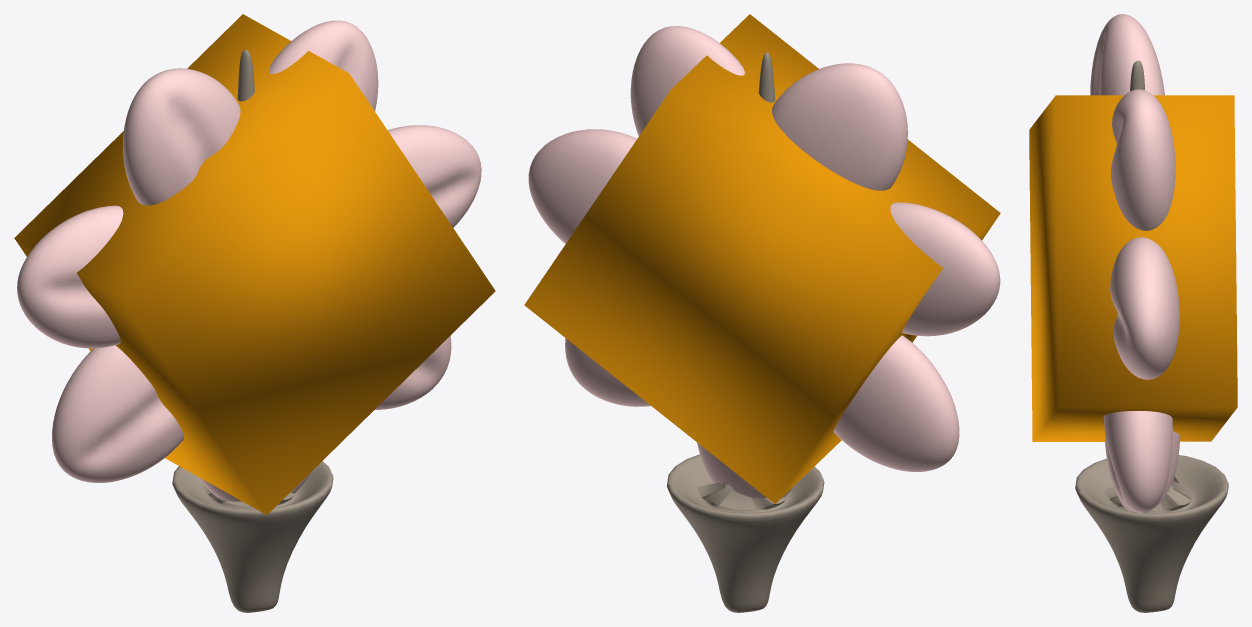
File: sunflower.glb
The picture shows the model from 3 angles, left to right: view 1: azimuth 30°, elevation 25°; view 2: azimuth 150°, elevation 25°; view 3: azimuth 270°, elevation 25°; orthographic projection. The views are drawn at different scales.
Parts seen in each view (by area): view 1: Cube, Cube.003, 10868_birthday-cake_v3.013, Cube.001, Cube.002, Cube.006, Cube.007, Cube.005; view 2: Cube, 10868_birthday-cake_v3.013, Cube.001, Cube.003, Cube.002, Cube.006, Cube.007, Cube.005, Cube.004; view 3: Cube, 10868_birthday-cake_v3.013, Cube.006, Cube.007, Cube.005, Cube.001, Cube.004.
Part boxes in pixels (left/top/right/bottom): Cube: left=14, top=14, right=495, bottom=514; Cube.003: left=52, top=345, right=183, bottom=482; 10868_birthday-cake_v3.013: left=172, top=49, right=333, bottom=612; Cube.001: left=123, top=68, right=240, bottom=205; Cube.002: left=17, top=205, right=123, bottom=348; Cube.006: left=388, top=125, right=481, bottom=227; Cube.007: left=269, top=20, right=378, bottom=110; Cube.005: left=375, top=336, right=451, bottom=409; Cube: left=524, top=14, right=1000, bottom=503; 10868_birthday-cake_v3.013: left=667, top=52, right=824, bottom=612; Cube.001: left=772, top=63, right=907, bottom=190; Cube.003: left=833, top=335, right=959, bottom=471; Cube.002: left=890, top=202, right=1000, bottom=336; Cube.006: left=528, top=129, right=636, bottom=243; Cube.007: left=630, top=26, right=744, bottom=136; Cube.005: left=565, top=338, right=650, bottom=406; Cube.004: left=697, top=442, right=793, bottom=498; Cube: left=1029, top=95, right=1237, bottom=441; 10868_birthday-cake_v3.013: left=1075, top=60, right=1228, bottom=612; Cube.006: left=1110, top=237, right=1179, bottom=379; Cube.007: left=1111, top=89, right=1175, bottom=230; Cube.005: left=1103, top=411, right=1172, bottom=512; Cube.001: left=1090, top=14, right=1164, bottom=95; Cube.004: left=1105, top=431, right=1180, bottom=512.
Size of the model in its own units: 2.3 by 2.67 by 0.9275.
